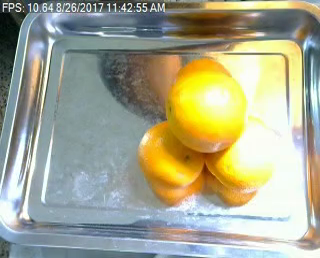Orange: (166, 72, 245, 152), (205, 120, 279, 189), (138, 120, 206, 188)
